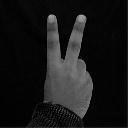hand: (42, 13, 93, 119)
